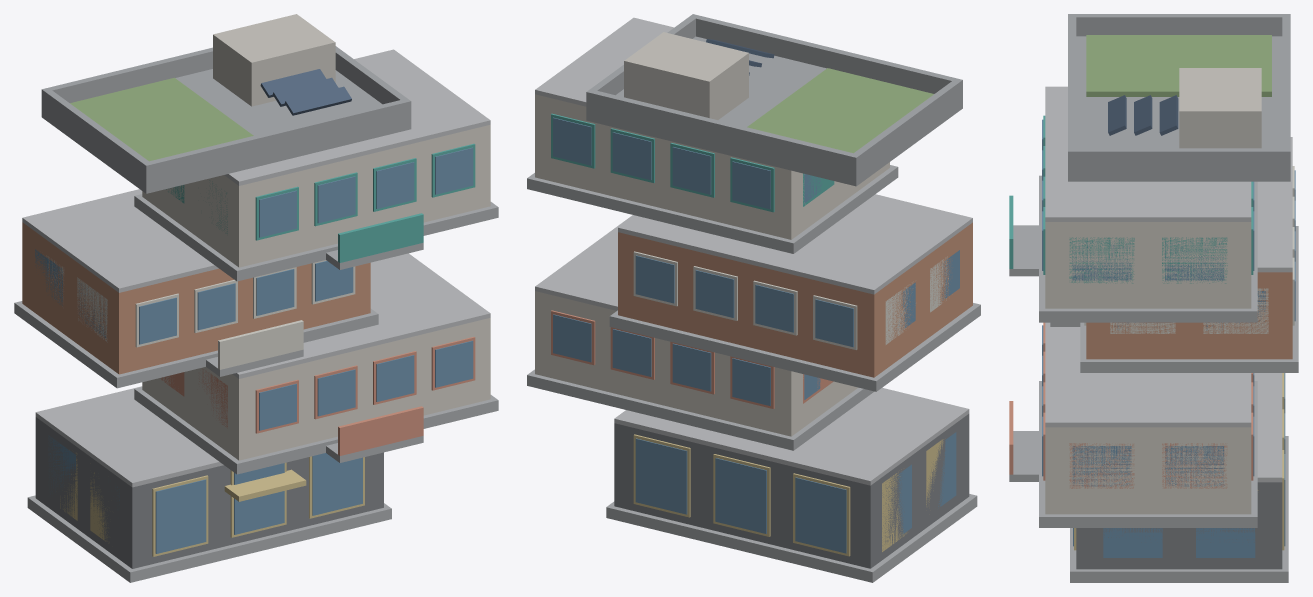
Rendered from layered-building.glb.
3 views of the same model, side by side, from view 1: azimuth 30°, elevation 25°; view 2: azimuth 150°, elevation 25°; view 3: azimuth 270°, elevation 25° (orthographic). The views are drawn at different scales.
Visible parts, largest first — view 1: floor · 2nd, floor · 1st, floor · ground, floor · 3rd, roof; view 2: floor · 2nd, floor · ground, roof, floor · 3rd, floor · 1st; view 3: roof, floor · 1st, floor · 3rd, floor · 2nd, floor · ground.
Part boxes in pixels (box(x1,y1,x2,y2)): floor · 2nd: box(14, 189, 378, 388); floor · 1st: box(134, 253, 498, 474); floor · ground: box(27, 386, 391, 582); floor · 3rd: box(134, 49, 498, 281); roof: box(41, 14, 411, 193); floor · 2nd: box(609, 194, 980, 391); floor · ground: box(606, 387, 977, 582); roof: box(586, 14, 962, 186); floor · 3rd: box(527, 17, 898, 253); floor · 1st: box(527, 215, 874, 450); roof: box(1068, 14, 1290, 181); floor · 1st: box(1009, 322, 1257, 527); floor · 3rd: box(1009, 86, 1257, 322); floor · 2nd: box(1050, 137, 1298, 372); floor · ground: box(1070, 373, 1288, 582).
Bounding box in the file's own units: 0.432 × 0.502 × 0.281.
